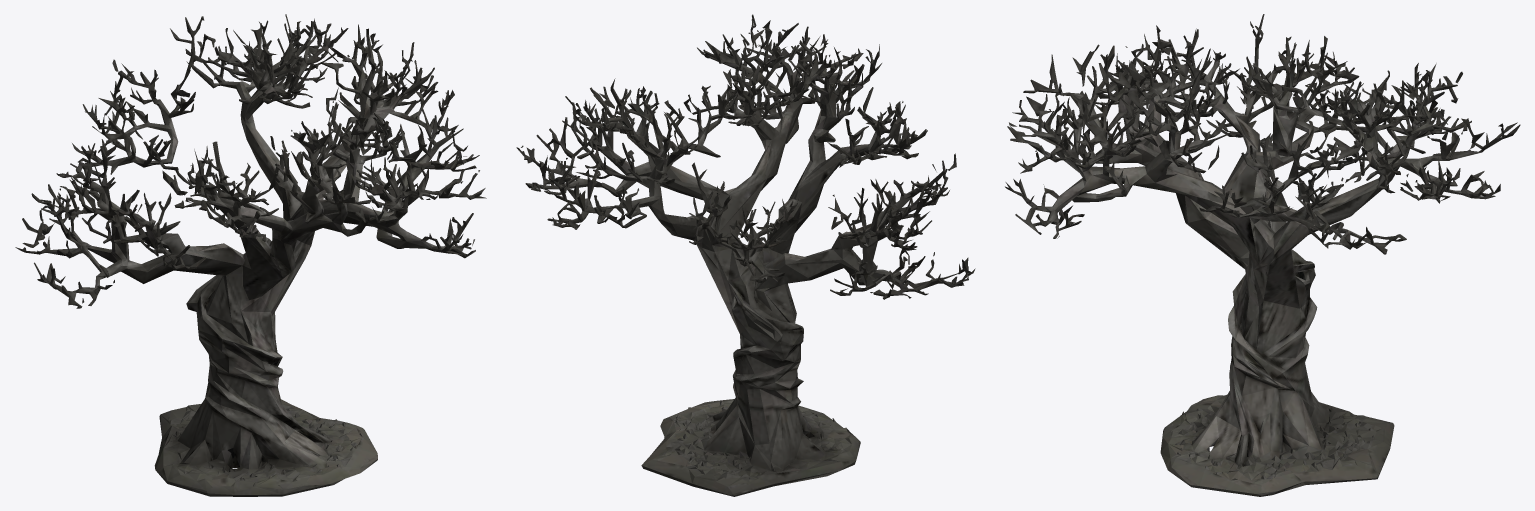
The model's file is char_dead_tree_03.glb.
3 views of the same model, side by side, from view 1: azimuth 30°, elevation 25°; view 2: azimuth 150°, elevation 25°; view 3: azimuth 270°, elevation 25° (orthographic). The views are drawn at different scales.
Parts seen in each view (by area): view 1: geometry_0; view 2: geometry_0; view 3: geometry_0.
Boxes of the visible parts, left/top/right/bottom form: geometry_0: left=15, top=14, right=486, bottom=496; geometry_0: left=516, top=14, right=975, bottom=496; geometry_0: left=1005, top=14, right=1520, bottom=496.
Bounding box in the file's own units: 0.9988 × 0.8546 × 0.9936.
Materials: 1 (1 with a texture image).
